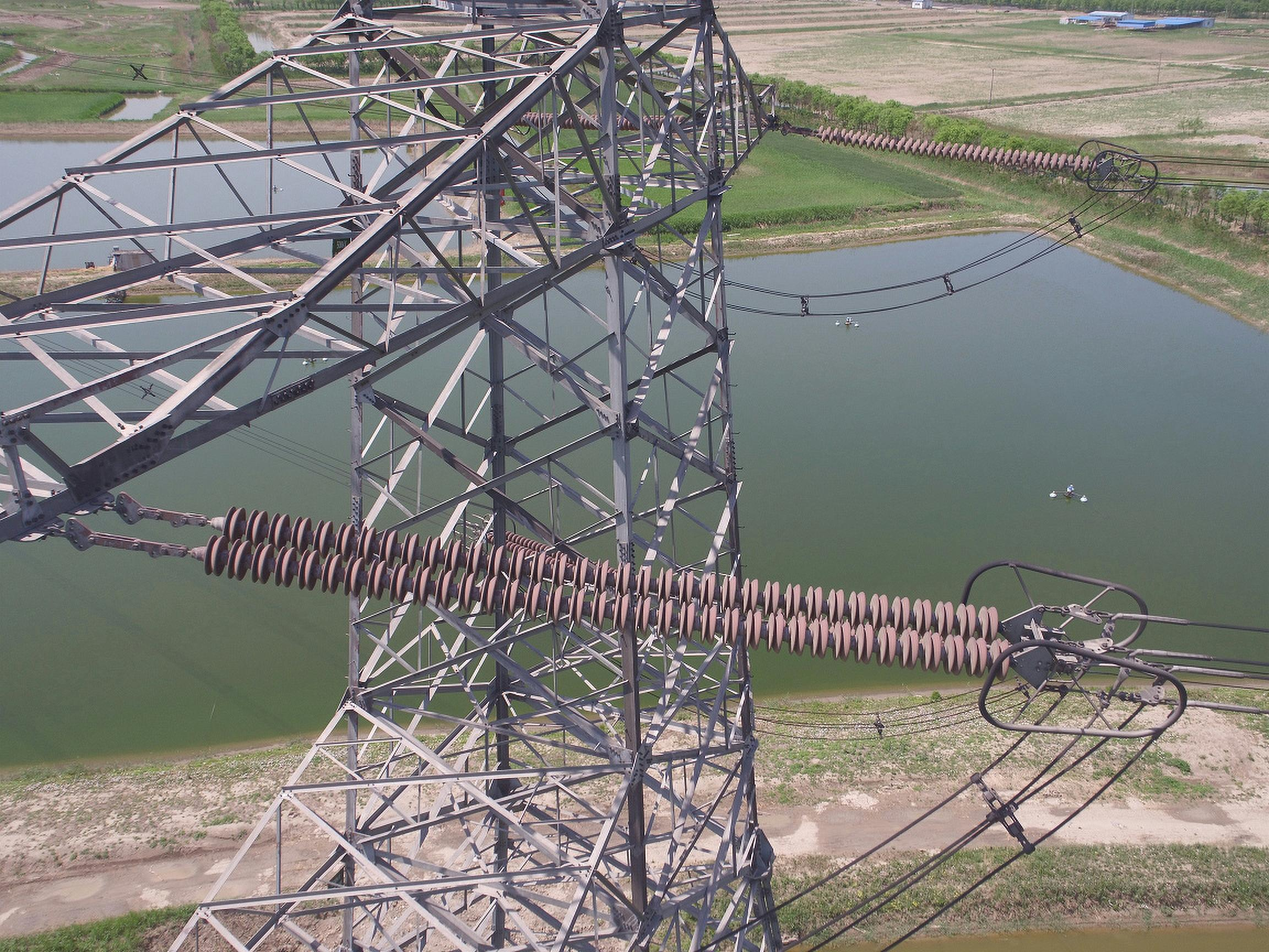insulator: (197, 502, 1016, 684), (816, 123, 1100, 176), (484, 522, 578, 569), (516, 111, 690, 134)
